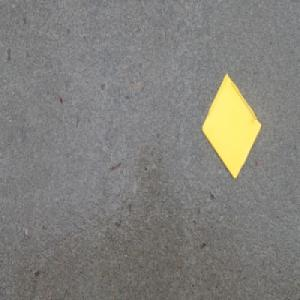PlasticPart: (199, 72, 261, 181)
